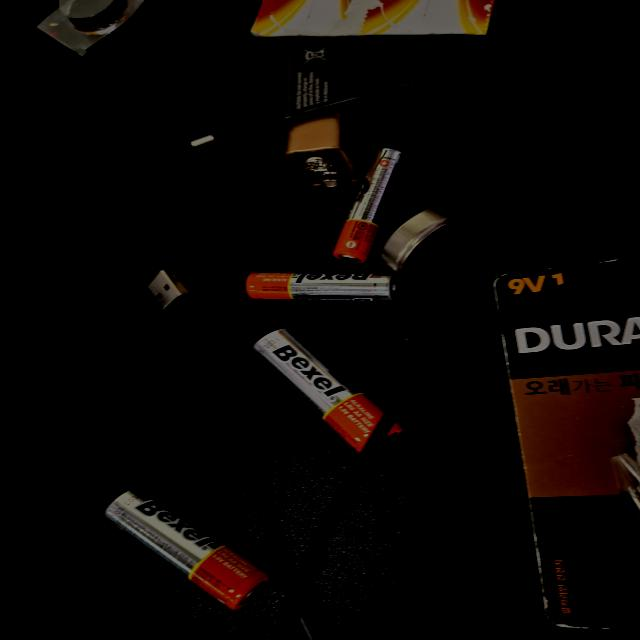9V: (393, 211, 581, 271)
AA: (42, 188, 202, 302)
AAA: (288, 250, 439, 304), (240, 182, 278, 300)
COIN: (272, 284, 362, 344)
